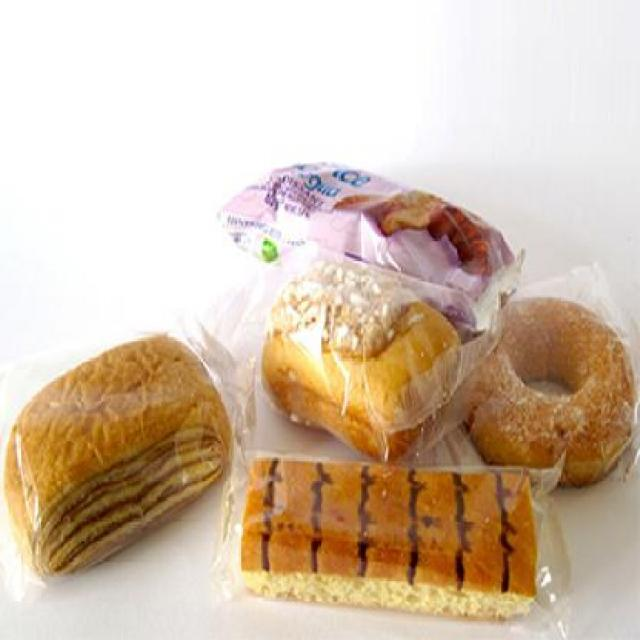Merendine: (211, 156, 515, 322)
Merendine packaged: (4, 332, 233, 578), (229, 450, 551, 624), (245, 260, 466, 463), (463, 301, 640, 493)
